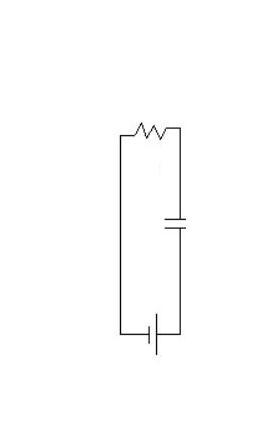resistor: (123, 117, 179, 151)
